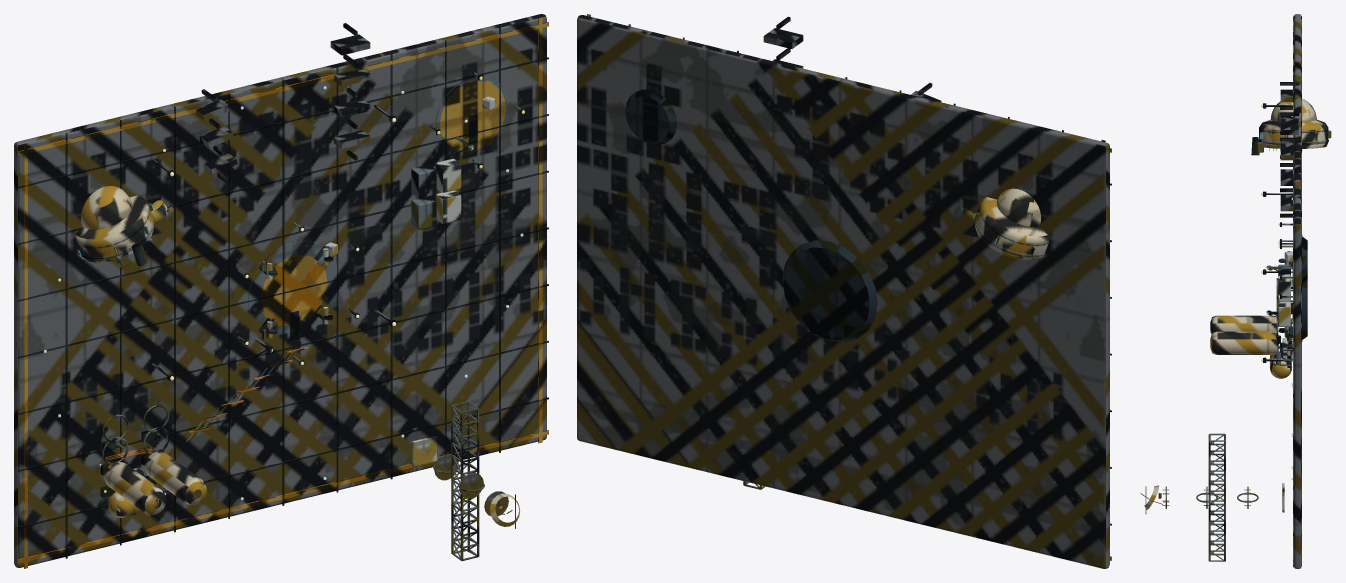
3 renders of one model, left to right at view 1: azimuth 30°, elevation 25°; view 2: azimuth 150°, elevation 25°; view 3: azimuth 270°, elevation 25°, orthographic. The views are drawn at different scales.
Parts seen in each view (by area): view 1: merged-6a7076, merged-202e38, merged-c19a3e, merged-cfc7ae, merged-667681, merged-5d6a72, merged-c3ccca; view 2: merged-6a7076, merged-202e38, merged-cfc7ae; view 3: merged-6a7076, merged-cfc7ae, merged-5d6a72, merged-202e38, merged-667681, merged-c3ccca, merged-c19a3e.
Part boxes in pixels (x1,y1,x2,y2): merged-6a7076: [14, 14, 546, 567]; merged-202e38: [17, 23, 548, 558]; merged-c19a3e: [17, 17, 548, 568]; merged-cfc7ae: [73, 186, 520, 526]; merged-667681: [74, 71, 520, 528]; merged-5d6a72: [433, 401, 484, 561]; merged-c3ccca: [133, 96, 494, 476]; merged-6a7076: [577, 15, 1109, 568]; merged-202e38: [625, 16, 1111, 525]; merged-cfc7ae: [975, 188, 1049, 260]; merged-6a7076: [1165, 14, 1301, 568]; merged-cfc7ae: [1144, 98, 1328, 509]; merged-5d6a72: [1196, 433, 1258, 561]; merged-202e38: [1251, 32, 1307, 535]; merged-667681: [1140, 105, 1330, 513]; merged-c3ccca: [1278, 148, 1302, 512]; merged-c19a3e: [1293, 15, 1293, 567].
Bounding box in the file's own units: 196 × 181 × 75.02.
14 materials, 8 textured.
